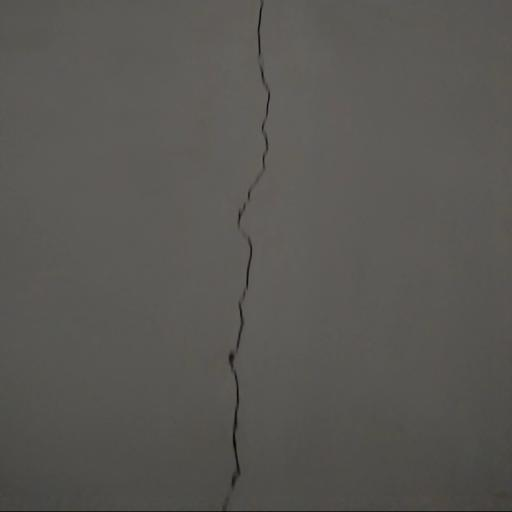minor_crack: (202, 0, 279, 512)
